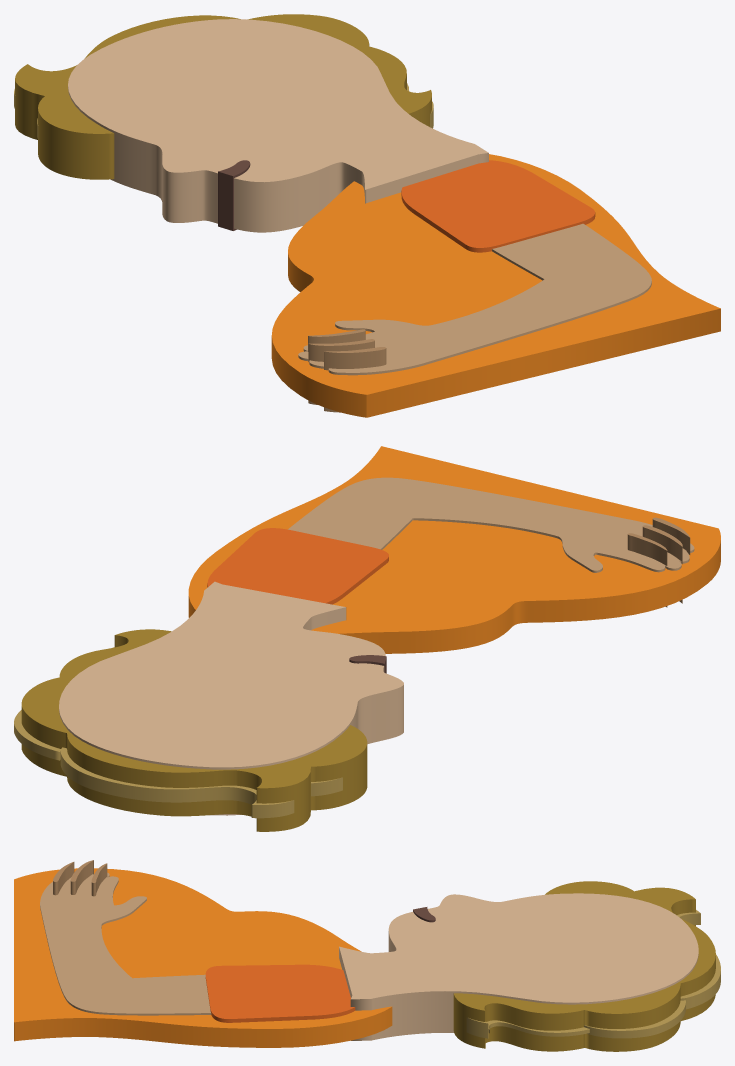
File: emoji_u1fac4_1f3fc.glb
3 views of the same model, one above another, from view 1: azimuth 30°, elevation 25°; view 2: azimuth 150°, elevation 25°; view 3: azimuth 270°, elevation 25° (orthographic). The views are drawn at different scales.
Parts seen in each view (by area): view 1: emoji_u1fac4_1f3fc; view 2: emoji_u1fac4_1f3fc; view 3: emoji_u1fac4_1f3fc.
Boxes of the visible parts, <box> form: emoji_u1fac4_1f3fc: <box>14,14,720,417</box>; emoji_u1fac4_1f3fc: <box>14,446,720,831</box>; emoji_u1fac4_1f3fc: <box>14,860,720,1051</box>.
Bounding box in the file's own units: 0.0182 × 0.0026 × 0.0338.
